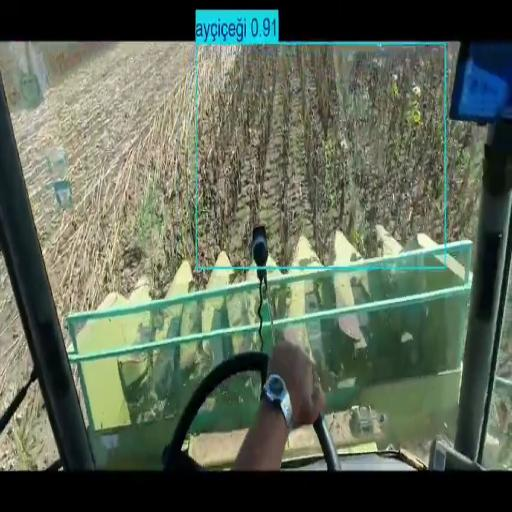ayc: (198, 47, 444, 263), (447, 122, 484, 239)
